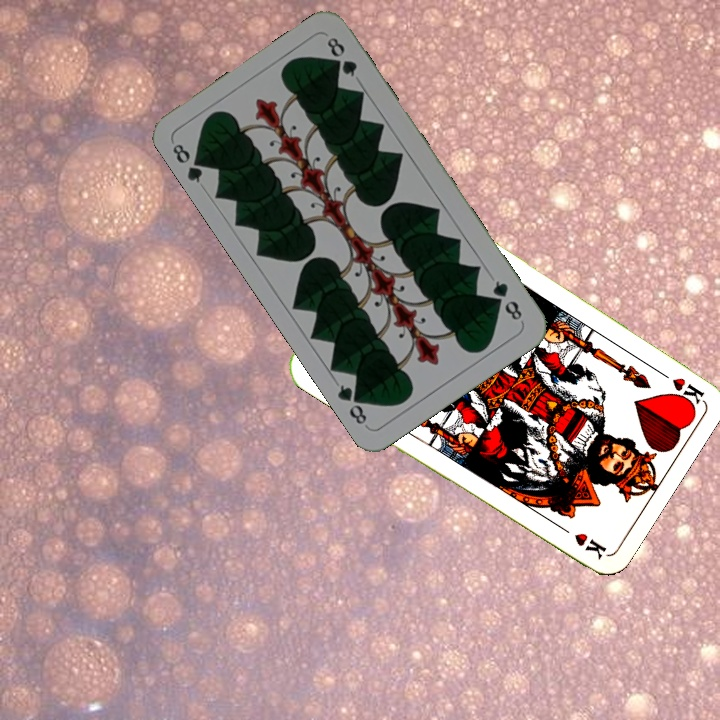G8: (168, 139, 210, 186), (488, 276, 525, 323)
HK: (651, 364, 706, 409)
